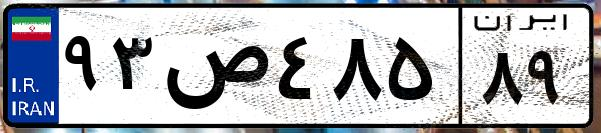3: (110, 28, 158, 98)
4: (270, 28, 330, 110)
5: (385, 28, 445, 110)
8: (330, 28, 385, 110), (475, 38, 525, 113)
9: (57, 26, 110, 100), (525, 38, 570, 115)
ص: (158, 20, 270, 120)
